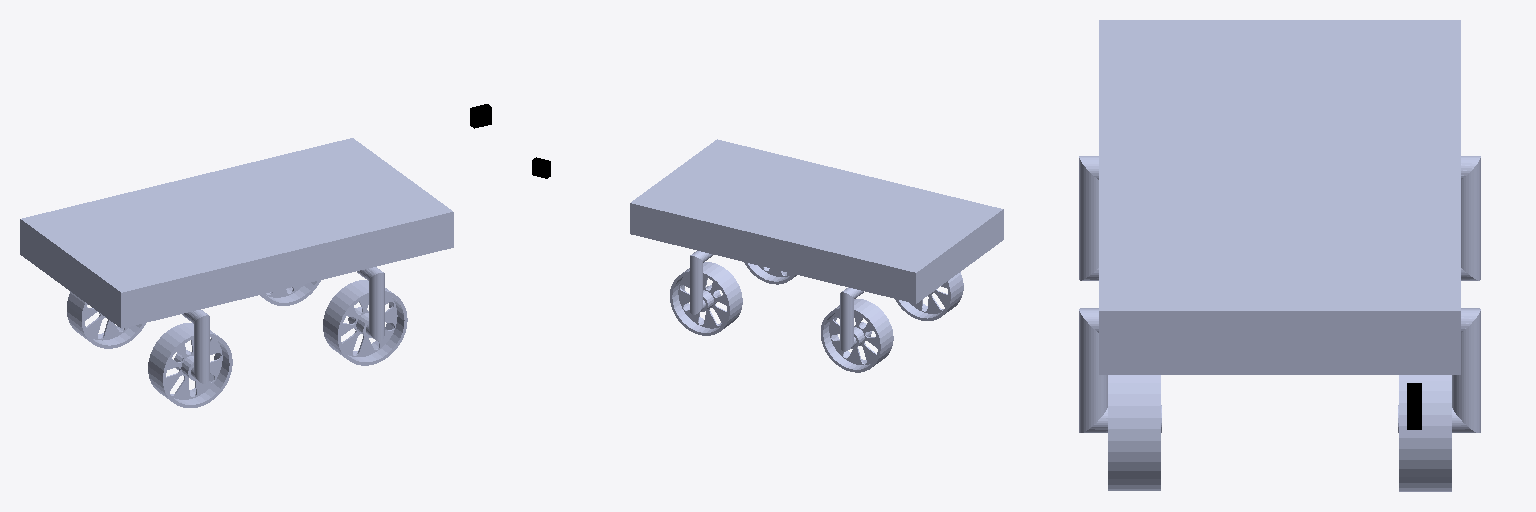
robot.urdf — batbat:
<?xml version="1.0" encoding="utf-8"?>
<!-- This URDF was automatically created by SolidWorks to URDF Exporter! Originally created by [author] ([email redacted]) 
     Commit Version: 1.6.0-4-g7f85cfe  Build Version: 1.6.7995.38578
     For more information, please see http://wiki.ros.org/sw_urdf_exporter -->
<robot
  name="batbat">
<link name="dummy_link">
  <pose>0 0 0 0 0 0</pose>
  </link>
  <joint name="dummy_joint" type="fixed">
    <parent
  	  link="dummy_link" />
    <child
      link="bat" />
    <origin
      xyz="0 0 0"
      rpy="0 0 0" />
    <axis
      xyz="0 0 0" />
  </joint>
  <link
    name="bat">
    <inertial>
      <origin
        xyz="-0.00486599634331379 -6.69841468503707E-18 0.324027623484238"
        rpy="0 0 0" />
      <mass
        value="50.7232439388311" />
      <inertia
        ixx="1.09055826124951"
        ixy="-3.35269528592248E-09"
        ixz="-3.3812326891182E-18"
        iyy="3.83396354011628"
        iyz="6.15284732885524E-18"
        izz="4.83272431412613" />
    </inertial>
    <visual>
      <origin
        xyz="0 0 0"
        rpy="0 0 0" />
      <geometry>
        <mesh
          filename="package://batbat/meshes/bat.STL" />
      </geometry>
      <material
        name="">
        <color
          rgba="0.792156862745098 0.819607843137255 0.933333333333333 1" />
      </material>
    </visual>
    <collision>
      <origin
        xyz="0 0 0"
        rpy="0 0 0" />
      <geometry>
        <mesh
          filename="package://batbat/meshes/bat.STL" />
      </geometry>
    </collision>
  </link>
  <link
    name="left_rear_wheel">
    <inertial>
      <origin
        xyz="1.66533453693773E-16 -8.32667268468867E-17 -0.0385"
        rpy="0 0 0" />
      <mass
        value="0.573286729576328" />
      <inertia
        ixx="0.00239463603464469"
        ixy="-7.27413290431382E-19"
        ixz="5.45949532263419E-19"
        iyy="0.0023946360346447"
        iyz="-2.06639055511541E-19"
        izz="0.00432457445366218" />
    </inertial>
    <visual>
      <origin
        xyz="0 0 0"
        rpy="0 0 0" />
      <geometry>
        <mesh
          filename="package://batbat/meshes/left_rear_wheel.STL" />
      </geometry>
      <material
        name="">
        <color
          rgba="0.792156862745098 0.819607843137255 0.933333333333333 1" />
      </material>
    </visual>
    <collision>
      <origin
        xyz="0 0 0"
        rpy="0 0 0" />
      <geometry>
        <mesh
          filename="package://batbat/meshes/left_rear_wheel.STL" />
      </geometry>
    </collision>
  </link>
  <joint
    name="left_rear_wheel_joint"
    type="continuous">
    <origin
      xyz="-0.254 0.166 0.1015"
      rpy="1.5707963267949 0 0" />
    <parent
      link="bat" />
    <child
      link="left_rear_wheel" />
    <axis
      xyz="0 0 -1" />
  </joint>
  <link
    name="right_rear_wheel">
    <inertial>
      <origin
        xyz="0 2.77555756156289E-17 -0.0385"
        rpy="0 0 0" />
      <mass
        value="0.573286729576328" />
      <inertia
        ixx="0.0023946360346447"
        ixy="1.64596017200982E-20"
        ixz="-2.10404479653222E-19"
        iyy="0.00239463603464469"
        iyz="4.09320571474671E-21"
        izz="0.00432457445366218" />
    </inertial>
    <visual>
      <origin
        xyz="0 0 0"
        rpy="0 0 0" />
      <geometry>
        <mesh
          filename="package://batbat/meshes/right_rear_wheel.STL" />
      </geometry>
      <material
        name="">
        <color
          rgba="0.792156862745098 0.819607843137255 0.933333333333333 1" />
      </material>
    </visual>
    <collision>
      <origin
        xyz="0 0 0"
        rpy="0 0 0" />
      <geometry>
        <mesh
          filename="package://batbat/meshes/right_rear_wheel.STL" />
      </geometry>
    </collision>
  </link>
  <joint
    name="right_rear_wheel_joint"
    type="continuous">
    <origin
      xyz="-0.254 -0.166 0.1015"
      rpy="-1.5707963267949 0 0" />
    <parent
      link="bat" />
    <child
      link="right_rear_wheel" />
    <axis
      xyz="0 0 1" />
  </joint>
  <link
    name="left_front_wheel">
    <inertial>
      <origin
        xyz="-5.68062037409334E-08 -0.0303204178096878 0.135651534929482"
        rpy="0 0 0" />
      <mass
        value="0.476285675559157" />
      <inertia
        ixx="0.00308338361390996"
        ixy="1.67634769313375E-09"
        ixz="-1.85092014262691E-09"
        iyy="0.00267628266798719"
        iyz="0.000153347484245119"
        izz="0.000502340348058678" />
    </inertial>
    <visual>
      <origin
        xyz="0 0 0"
        rpy="0 0 0" />
      <geometry>
        <mesh
          filename="package://batbat/meshes/left_front_wheel.STL" />
      </geometry>
      <material
        name="">
        <color
          rgba="0.792156862745098 0.819607843137255 0.933333333333333 1" />
      </material>
    </visual>
    <collision>
      <origin
        xyz="0 0 0"
        rpy="0 0 0" />
      <geometry>
        <mesh
          filename="package://batbat/meshes/left_front_wheel.STL" />
      </geometry>
    </collision>
  </link>
  <joint
    name="left_front_wheel_joint"
    type="revolute">
    <origin
      xyz="0.254 0.204 0.3265"
      rpy="3.14159265358979 0 0" />
    <parent
      link="bat" />
    <child
      link="left_front_wheel" />
    <axis
      xyz="0 0 1" />
    <limit
      lower="-3"
      upper="3"
      effort="10"
      velocity="100" />
  </joint>
  <link
    name="left_roll">
    <inertial>
      <origin
        xyz="-5.55111512312578E-17 0 -0.0385"
        rpy="0 0 0" />
      <mass
        value="0.573286729576329" />
      <inertia
        ixx="0.0023946360346447"
        ixy="2.38767751764967E-20"
        ixz="5.17032334026986E-19"
        iyy="0.0023946360346447"
        iyz="-2.92576549499483E-19"
        izz="0.00432457445366219" />
    </inertial>
    <visual>
      <origin
        xyz="0 0 0"
        rpy="0 0 0" />
      <geometry>
        <mesh
          filename="package://batbat/meshes/left_roll.STL" />
      </geometry>
      <material
        name="">
        <color
          rgba="0.792156862745098 0.819607843137255 0.933333333333333 1" />
      </material>
    </visual>
    <collision>
      <origin
        xyz="0 0 0"
        rpy="0 0 0" />
      <geometry>
        <mesh
          filename="package://batbat/meshes/left_roll.STL" />
      </geometry>
    </collision>
  </link>
  <joint
    name="left_roll_joint"
    type="continuous">
    <origin
      xyz="0 0.038 0.225"
      rpy="-1.5707963267949 0 0" />
    <parent
      link="left_front_wheel" />
    <child
      link="left_roll" />
    <axis
      xyz="0 0 -1" />
  </joint>
  <link
    name="right_front_wheel">
    <inertial>
      <origin
        xyz="5.68062039074668E-08 0.0303204178096884 0.135651534929482"
        rpy="0 0 0" />
      <mass
        value="0.476285675559157" />
      <inertia
        ixx="0.00308338361390996"
        ixy="1.67634769328428E-09"
        ixz="1.85092014321466E-09"
        iyy="0.0026762826679872"
        iyz="-0.000153347484245121"
        izz="0.000502340348058678" />
    </inertial>
    <visual>
      <origin
        xyz="0 0 0"
        rpy="0 0 0" />
      <geometry>
        <mesh
          filename="package://batbat/meshes/right_front_wheel.STL" />
      </geometry>
      <material
        name="">
        <color
          rgba="0.792156862745098 0.819607843137255 0.933333333333333 1" />
      </material>
    </visual>
    <collision>
      <origin
        xyz="0 0 0"
        rpy="0 0 0" />
      <geometry>
        <mesh
          filename="package://batbat/meshes/right_front_wheel.STL" />
      </geometry>
    </collision>
  </link>
  <joint
    name="right_front_wheel_joint"
    type="revolute">
    <origin
      xyz="0.254 -0.203999999999999 0.3265"
      rpy="3.14159265358979 0 0" />
    <parent
      link="bat" />
    <child
      link="right_front_wheel" />
    <axis
      xyz="0 0 1" />
    <limit
      lower="-3"
      upper="3"
      effort="10"
      velocity="100" />
  </joint>
  <link
    name="right_roll">
    <inertial>
      <origin
        xyz="0 -5.55111512312578E-17 -0.0384999999999997"
        rpy="0 0 0" />
      <mass
        value="0.573286729576328" />
      <inertia
        ixx="0.0023946360346447"
        ixy="1.07472378557313E-18"
        ixz="2.45111503531771E-19"
        iyy="0.00239463603464469"
        iyz="5.1029475068558E-20"
        izz="0.00432457445366218" />
    </inertial>
    <visual>
      <origin
        xyz="0 0 0"
        rpy="0 0 0" />
      <geometry>
        <mesh
          filename="package://batbat/meshes/right_roll.STL" />
      </geometry>
      <material
        name="">
        <color
          rgba="0.792156862745098 0.819607843137255 0.933333333333333 1" />
      </material>
    </visual>
    <collision>
      <origin
        xyz="0 0 0"
        rpy="0 0 0" />
      <geometry>
        <mesh
          filename="package://batbat/meshes/right_roll.STL" />
      </geometry>
    </collision>
  </link>
  <joint
    name="right_roll_joint"
    type="continuous">
    <origin
      xyz="0 -0.0379999999999993 0.225"
      rpy="-1.5707963267949 0 3.14159265358979" />
    <parent
      link="right_front_wheel" />
    <child
      link="right_roll" />
    <axis
      xyz="0 0 -1" />
  </joint>
<transmission name="rear_motor_left">
    <type>transmission_interface/SimpleTransmission</type>
    <joint name="left_rear_wheel_joint">
      <hardwareInterface>hardware_interface/VelocityJointInterface</hardwareInterface>
    </joint>
    <actuator name="rear_motor_left">
      <mechanicalReduction>50</mechanicalReduction>
      <hardwareInterface>hardware_interface/VelocityJointInterface</hardwareInterface>
    </actuator>
  </transmission>
  <transmission name="rear_motor_right">
    <type>transmission_interface/SimpleTransmission</type>
    <joint name="right_rear_wheel_joint">
      <hardwareInterface>hardware_interface/VelocityJointInterface</hardwareInterface>
    </joint>
    <actuator name="rear_motor_right">
      <mechanicalReduction>50</mechanicalReduction>
      <hardwareInterface>hardware_interface/VelocityJointInterface</hardwareInterface>
    </actuator>
  </transmission>
  <transmission name="front_motor_right">
    <type>transmission_interface/SimpleTransmission</type>
    <joint name="right_front_wheel_joint">
      <hardwareInterface>hardware_interface/EffortJointInterface</hardwareInterface>
    </joint>
    <actuator name="front_motor_right">
      <mechanicalReduction>50</mechanicalReduction>
      <hardwareInterface>hardware_interface/EffortJointInterface</hardwareInterface>
    </actuator>
  </transmission>
  <transmission name="front_motor_left">
    <type>transmission_interface/SimpleTransmission</type>
    <joint name="left_front_wheel_joint">
      <hardwareInterface>hardware_interface/EffortJointInterface</hardwareInterface>
    </joint>
    <actuator name="front_motor_left">
      <mechanicalReduction>50</mechanicalReduction>
      <hardwareInterface>hardware_interface/EffortJointInterface</hardwareInterface>
    </actuator>
  </transmission>


  
  <gazebo>
    <plugin name="gazebo_ros_control" filename="libgazebo_ros_control.so">
    </plugin>
  </gazebo>
  <link name="base_link">
    <visual>
      <geometry>
        <mesh filename="package://ur_description/meshes/ur5/visual/base.dae"/>
      </geometry>
      <material name="LightGrey">
        <color rgba="0.7 0.7 0.7 1.0"/>
      </material>
    </visual>
    <collision>
      <geometry>
        <mesh filename="package://ur_description/meshes/ur5/collision/base.stl"/>
      </geometry>
    </collision>
    <inertial>
      <mass value="4.0"/>
      <origin rpy="0 0 0" xyz="0.0 0.0 0.0"/>
      <inertia ixx="0.00443333156" ixy="0.0" ixz="0.0" iyy="0.00443333156" iyz="0.0" izz="0.0072"/>
    </inertial>
  </link>
  <joint name="shoulder_sweep_joint" type="revolute">
    <parent link="base_link"/>
    <child link="shoulder_link"/>
    <origin rpy="0.0 0.0 0.0" xyz="0.0 0.0 0.089159"/>
    <axis xyz="0 0 1"/>
    <limit effort="150.0" lower="-3.14159265" upper="3.14159265" velocity="3.15"/>
    <dynamics damping="0.0" friction="0.0"/>
  </joint>
  <link name="shoulder_link">
    <visual>
      <geometry>
        <mesh filename="package://ur_description/meshes/ur5/visual/shoulder.dae"/>
      </geometry>
      <material name="LightGrey">
        <color rgba="0.7 0.7 0.7 1.0"/>
      </material>
    </visual>
    <collision>
      <geometry>
        <mesh filename="package://ur_description/meshes/ur5/collision/shoulder.stl"/>
      </geometry>
    </collision>
    <inertial>
      <mass value="3.7"/>
      <origin rpy="0 0 0" xyz="0.0 0.0 0.0"/>
      <inertia ixx="0.010267495893" ixy="0.0" ixz="0.0" iyy="0.010267495893" iyz="0.0" izz="0.00666"/>
    </inertial>
  </link>
  <joint name="shoulder_lift_joint" type="revolute">
    <parent link="shoulder_link"/>
    <child link="upper_arm_link"/>
    <origin rpy="0.0 1.570796325 0.0" xyz="0.0 0.13585 0.0"/>
    <axis xyz="0 1 0"/>
    <limit effort="150.0" lower="-3.14159265" upper="3.14159265" velocity="3.15"/>
    <dynamics damping="0.0" friction="0.0"/>
  </joint>
  <link name="upper_arm_link">
    <visual>
      <geometry>
        <mesh filename="package://ur_description/meshes/ur5/visual/upperarm.dae"/>
      </geometry>
      <material name="LightGrey">
        <color rgba="0.7 0.7 0.7 1.0"/>
      </material>
    </visual>
    <collision>
      <geometry>
        <mesh filename="package://ur_description/meshes/ur5/collision/upperarm.stl"/>
      </geometry>
    </collision>
    <inertial>
      <mass value="8.393"/>
      <origin rpy="0 0 0" xyz="0.0 0.0 0.28"/>
      <inertia ixx="0.22689067591" ixy="0.0" ixz="0.0" iyy="0.22689067591" iyz="0.0" izz="0.0151074"/>
    </inertial>
  </link>
  <joint name="elbow_joint" type="revolute">
    <parent link="upper_arm_link"/>
    <child link="forearm_link"/>
    <origin rpy="0.0 0.0 0.0" xyz="0.0 -0.1197 0.425"/>
    <axis xyz="0 1 0"/>
    <limit effort="150.0" lower="-3.14159265" upper="3.14159265" velocity="3.15"/>
    <dynamics damping="0.0" friction="0.0"/>
  </joint>
  <link name="forearm_link">
    <visual>
      <geometry>
        <mesh filename="package://ur_description/meshes/ur5/visual/forearm.dae"/>
      </geometry>
      <material name="LightGrey">
        <color rgba="0.7 0.7 0.7 1.0"/>
      </material>
    </visual>
    <collision>
      <geometry>
        <mesh filename="package://ur_description/meshes/ur5/collision/forearm.stl"/>
      </geometry>
    </collision>
    <inertial>
      <mass value="2.275"/>
      <origin rpy="0 0 0" xyz="0.0 0.0 0.25"/>
      <inertia ixx="0.049443313556" ixy="0.0" ixz="0.0" iyy="0.049443313556" iyz="0.0" izz="0.004095"/>
    </inertial>
  </link>
  <joint name="wrist_pitch_joint" type="revolute">
    <parent link="forearm_link"/>
    <child link="wrist_1_link"/>
    <origin rpy="0.0 1.570796325 0.0" xyz="0.0 0.0 0.39225"/>
    <axis xyz="0 1 0"/>
    <limit effort="28.0" lower="-3.14159265" upper="3.14159265" velocity="3.2"/>
    <dynamics damping="0.0" friction="0.0"/>
  </joint>
  <link name="wrist_1_link">
    <visual>
      <geometry>
        <mesh filename="package://ur_description/meshes/ur5/visual/wrist1.dae"/>
      </geometry>
      <material name="LightGrey">
        <color rgba="0.7 0.7 0.7 1.0"/>
      </material>
    </visual>
    <collision>
      <geometry>
        <mesh filename="package://ur_description/meshes/ur5/collision/wrist1.stl"/>
      </geometry>
    </collision>
    <inertial>
      <mass value="1.219"/>
      <origin rpy="0 0 0" xyz="0.0 0.0 0.0"/>
      <inertia ixx="0.111172755531" ixy="0.0" ixz="0.0" iyy="0.111172755531" iyz="0.0" izz="0.21942"/>
    </inertial>
  </link>
  <joint name="wrist_roll_joint" type="revolute">
    <parent link="wrist_1_link"/>
    <child link="wrist_2_link"/>
    <origin rpy="0.0 0.0 0.0" xyz="0.0 0.093 0.0"/>
    <axis xyz="0 0 1"/>
    <limit effort="28.0" lower="-3.14159265" upper="3.14159265" velocity="3.2"/>
    <dynamics damping="0.0" friction="0.0"/>
  </joint>
  <link name="wrist_2_link">
    <visual>
      <geometry>
        <mesh filename="package://ur_description/meshes/ur5/visual/wrist2.dae"/>
      </geometry>
      <material name="LightGrey">
        <color rgba="0.7 0.7 0.7 1.0"/>
      </material>
    </visual>
    <collision>
      <geometry>
        <mesh filename="package://ur_description/meshes/ur5/collision/wrist2.stl"/>
      </geometry>
    </collision>
    <inertial>
      <mass value="1.219"/>
      <origin rpy="0 0 0" xyz="0.0 0.0 0.0"/>
      <inertia ixx="0.111172755531" ixy="0.0" ixz="0.0" iyy="0.111172755531" iyz="0.0" izz="0.21942"/>
    </inertial>
  </link>
  <joint name="wrist_yaw_joint" type="revolute">
    <parent link="wrist_2_link"/>
    <child link="wrist_3_link"/>
    <origin rpy="0.0 0.0 0.0" xyz="0.0 0.0 0.09465"/>
    <axis xyz="0 1 0"/>
    <limit effort="28.0" lower="-3.14159265" upper="3.14159265" velocity="3.2"/>
    <dynamics damping="0.0" friction="0.0"/>
  </joint>
  <link name="wrist_3_link">
    <visual>
      <geometry>
        <mesh filename="package://ur_description/meshes/ur5/visual/wrist3.dae"/>
      </geometry>
      <material name="LightGrey">
        <color rgba="0.7 0.7 0.7 1.0"/>
      </material>
    </visual>
    <collision>
      <geometry>
        <mesh filename="package://ur_description/meshes/ur5/collision/wrist3.stl"/>
      </geometry>
    </collision>
    <inertial>
      <mass value="0.1879"/>
      <origin rpy="0 0 0" xyz="0.0 0.0 0.0"/>
      <inertia ixx="0.0171364731454" ixy="0.0" ixz="0.0" iyy="0.0171364731454" iyz="0.0" izz="0.033822"/>
    </inertial>
  </link>
  <joint name="ee_fixed_joint" type="fixed">
    <parent link="wrist_3_link"/>
    <child link="ee_link"/>
    <origin rpy="0.0 0.0 1.570796325" xyz="0.0 0.0823 0.0"/>
  </joint>
  <link name="ee_link">
    <collision>
      <geometry>
        <box size="0.01 0.01 0.01"/>
      </geometry>
      <origin rpy="0 0 0" xyz="-0.01 0 0"/>
    </collision>
  </link>
  <transmission name="shoulder_pan_trans">
    <type>transmission_interface/SimpleTransmission</type>
    <joint name="shoulder_sweep_joint">
      <hardwareInterface>hardware_interface/EffortJointInterface</hardwareInterface>
    </joint>
    <actuator name="shoulder_pan_motor">
      <mechanicalReduction>1</mechanicalReduction>
    </actuator>
  </transmission>
  <transmission name="shoulder_lift_trans">
    <type>transmission_interface/SimpleTransmission</type>
    <joint name="shoulder_lift_joint">
      <hardwareInterface>hardware_interface/EffortJointInterface</hardwareInterface>
    </joint>
    <actuator name="shoulder_lift_motor">
      <mechanicalReduction>1</mechanicalReduction>
    </actuator>
  </transmission>
  <transmission name="elbow_trans">
    <type>transmission_interface/SimpleTransmission</type>
    <joint name="elbow_joint">
      <hardwareInterface>hardware_interface/EffortJointInterface</hardwareInterface>
    </joint>
    <actuator name="elbow_motor">
      <mechanicalReduction>1</mechanicalReduction>
    </actuator>
  </transmission>
  <transmission name="wrist_1_trans">
    <type>transmission_interface/SimpleTransmission</type>
    <joint name="wrist_pitch_joint">
      <hardwareInterface>hardware_interface/EffortJointInterface</hardwareInterface>
    </joint>
    <actuator name="wrist_1_motor">
      <mechanicalReduction>1</mechanicalReduction>
    </actuator>
  </transmission>
  <transmission name="wrist_2_trans">
    <type>transmission_interface/SimpleTransmission</type>
    <joint name="wrist_roll_joint">
      <hardwareInterface>hardware_interface/EffortJointInterface</hardwareInterface>
    </joint>
    <actuator name="wrist_2_motor">
      <mechanicalReduction>1</mechanicalReduction>
    </actuator>
  </transmission>
  <transmission name="wrist_3_trans">
    <type>transmission_interface/SimpleTransmission</type>
    <joint name="wrist_yaw_joint">
      <hardwareInterface>hardware_interface/EffortJointInterface</hardwareInterface>
    </joint>
    <actuator name="wrist_3_motor">
      <mechanicalReduction>1</mechanicalReduction>
    </actuator>
  </transmission>
  <!-- define the ur5's position and orientation in the world coordinate system -->
  
    
  <!--gripper-->
  <link name="vacuum_effector">
      <gravity>0</gravity>
      <visual>
        <origin rpy="0 0 0" xyz="0 0 0"/>
        <geometry>
          <box size="0.05 0.02 0.05"/>
        </geometry>
        <material name="transparent">
          <color rgba="0 0 0 0"/>
        </material>
      </visual>
      <inertial>
        <origin rpy="0 0 0" xyz="0.000000 0.000000 0.000000"/>
        <mass value="0.0001"/>
        <inertia ixx="1e-08" ixy="0" ixz="0" iyy="1e-08" iyz="0" izz="1e-08"/>
      </inertial>
    </link>
    <joint name="left_end_joint" type="revolute">
      <parent link="wrist_3_link" />
      <child link="vacuum_effector" />
      <origin rpy="0 0 0" xyz="0 0.08 0.01" />
      <limit effort="30" velocity="1.0" lower="0" upper="0" />
    </joint>
    <gazebo>
      <plugin name="gazebo_ros_vacuum_gripper" filename="libgazebo_ros_vacuum_gripper.so">
        <robotNamespace>/robot/vacuum_gripper</robotNamespace>
        <bodyName>vacuum_effector</bodyName>
        <topicName>grasping</topicName>
      </plugin>
    </gazebo>


    <gazebo>
		<plugin name="gazebo_ros_control" filename="libgazebo_ros_control.so">
			<robotNamespace>/batbat</robotNamespace>
			<robotSimType>gazebo_ros_control/DefaultRobotHWSim</robotSimType>
			<legacyModeNS>true</legacyModeNS>
		</plugin>
	  </gazebo>


  <joint name="bat_bat_to_base" type="fixed">
    <origin rpy="0 0 0" xyz="0 0 0.400"/>
    <parent link="bat"/>
    <child link="base_link"/>
    <axis xyz="0 0 0"/>
  </joint>


</robot>

--- Facts derived from the render (not from the file) ---
Views: 3 orthographic renders of the robot side by side, from view 1: azimuth 30°, elevation 25°; view 2: azimuth 150°, elevation 25°; view 3: azimuth 270°, elevation 25°.
Robot: batbat — 17 links, 16 joints (9 revolute, 4 continuous, 3 fixed); root link dummy_link; default pose: every joint at zero.
Visible links, largest first — view 1: bat, right_roll, right_rear_wheel, left_rear_wheel, right_front_wheel, left_roll; view 2: bat, left_roll, left_rear_wheel, right_rear_wheel, left_front_wheel, right_roll; view 3: bat, right_roll, left_roll, left_front_wheel, right_front_wheel, vacuum_effector.
Boxes of the visible links, x1=… form: bat: x1=20, y1=138, x2=453, y2=383; right_roll: x1=323, y1=280, x2=407, y2=365; right_rear_wheel: x1=148, y1=323, x2=232, y2=407; left_rear_wheel: x1=67, y1=291, x2=145, y2=348; right_front_wheel: x1=357, y1=267, x2=384, y2=340; left_roll: x1=260, y1=280, x2=320, y2=305; bat: x1=630, y1=139, x2=1003, y2=351; left_roll: x1=670, y1=262, x2=742, y2=335; left_rear_wheel: x1=821, y1=299, x2=893, y2=372; right_rear_wheel: x1=895, y1=272, x2=963, y2=320; left_front_wheel: x1=690, y1=251, x2=712, y2=314; right_roll: x1=744, y1=262, x2=796, y2=284; bat: x1=1079, y1=20, x2=1480, y2=374; right_roll: x1=1108, y1=375, x2=1160, y2=490; left_roll: x1=1399, y1=375, x2=1451, y2=491; left_front_wheel: x1=1398, y1=308, x2=1480, y2=432; right_front_wheel: x1=1079, y1=308, x2=1161, y2=432; vacuum_effector: x1=1407, y1=383, x2=1421, y2=429.
Size in the robot's own frame: 1.32 by 0.564 by 0.4095 metres.
7 mesh visuals loaded from 14 distinct referenced files (7 binary STL); not drawn: 7 (reference not matched to a file when rendering).
